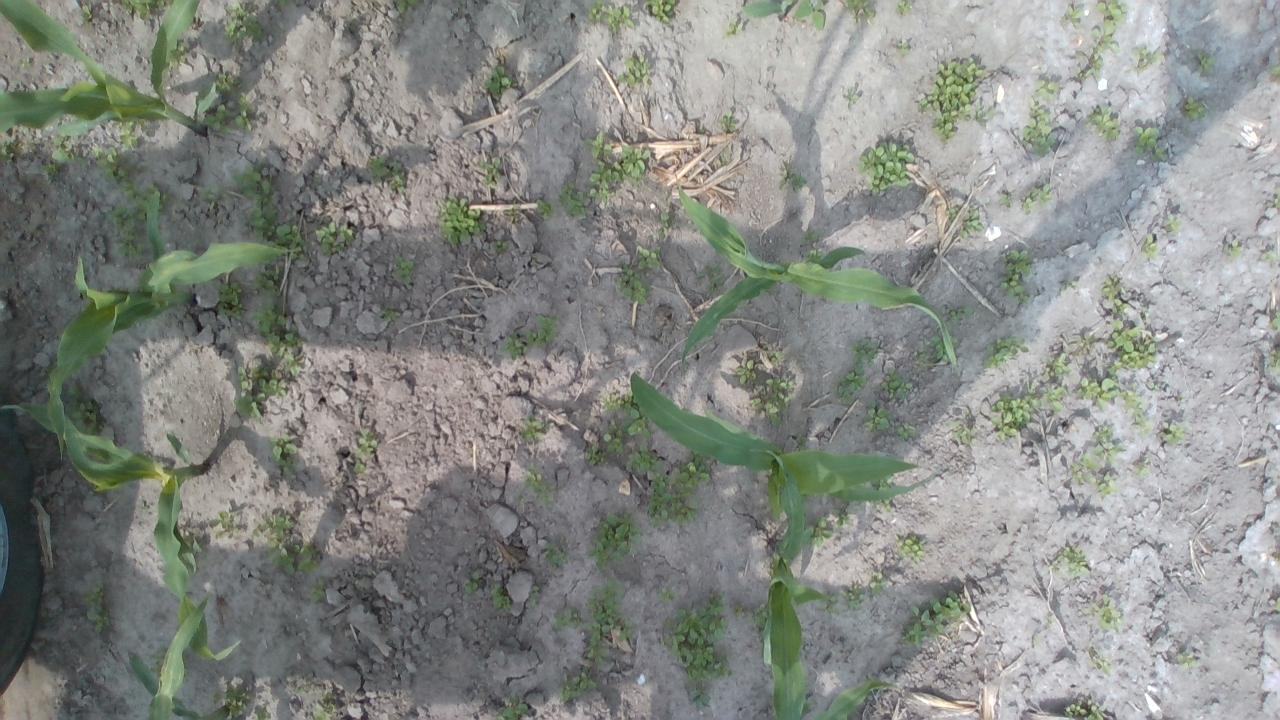Maize: (44, 188, 300, 460), (0, 403, 242, 662), (624, 367, 920, 568), (673, 184, 958, 372), (0, 0, 220, 140), (762, 524, 834, 720), (127, 594, 233, 720), (808, 675, 904, 720), (742, 0, 796, 21)
Weeds: (658, 588, 733, 709), (918, 57, 991, 143), (584, 574, 640, 666), (251, 268, 304, 362), (234, 158, 282, 248), (901, 590, 972, 646), (236, 360, 302, 419), (1105, 312, 1162, 375), (990, 382, 1044, 441), (648, 469, 701, 528), (588, 510, 640, 570), (251, 514, 298, 576), (858, 142, 914, 192), (436, 196, 486, 248), (111, 202, 152, 264), (624, 418, 666, 474), (750, 376, 795, 428), (120, 180, 170, 222), (1120, 382, 1158, 434), (998, 248, 1032, 305), (222, 1, 266, 45), (1021, 103, 1056, 158), (80, 580, 112, 634), (276, 207, 306, 264), (614, 260, 651, 306), (586, 0, 636, 34), (520, 464, 556, 510), (90, 143, 128, 185), (1076, 376, 1120, 412), (313, 222, 357, 257), (366, 156, 406, 194), (984, 336, 1029, 369), (214, 280, 248, 322), (270, 434, 302, 478), (836, 367, 870, 407), (1088, 103, 1122, 142), (556, 176, 586, 220), (588, 162, 620, 203), (560, 671, 602, 702), (1133, 124, 1167, 162), (620, 145, 650, 188), (1092, 426, 1122, 467), (618, 50, 652, 86), (1087, 594, 1122, 628), (527, 312, 561, 346), (1050, 544, 1088, 574), (64, 402, 98, 435), (679, 454, 712, 488), (695, 262, 730, 294), (1102, 276, 1130, 314), (879, 368, 912, 400), (483, 65, 515, 97), (115, 118, 149, 148), (204, 103, 234, 136), (850, 335, 879, 369), (120, 0, 166, 21), (494, 692, 528, 720), (939, 304, 976, 329), (223, 686, 250, 720), (864, 398, 890, 433), (1096, 0, 1126, 30), (778, 160, 808, 190), (583, 130, 613, 160), (804, 516, 832, 548), (894, 534, 926, 562), (796, 0, 826, 29), (1071, 454, 1097, 487), (1132, 46, 1162, 74), (634, 244, 664, 272), (542, 541, 574, 567), (1023, 184, 1056, 209), (603, 419, 625, 456), (390, 254, 413, 289), (354, 427, 379, 459), (1044, 352, 1072, 380), (960, 208, 986, 238), (478, 156, 504, 186), (310, 690, 336, 720), (501, 331, 529, 358), (178, 526, 206, 553), (234, 93, 253, 132), (844, 0, 876, 23), (215, 509, 242, 536), (945, 418, 971, 445), (646, 0, 676, 23), (1183, 95, 1209, 121), (1097, 472, 1121, 500), (554, 606, 584, 628), (298, 546, 320, 576), (375, 304, 402, 328), (1092, 32, 1121, 54), (928, 334, 949, 364), (599, 390, 625, 414), (491, 583, 512, 612), (520, 416, 544, 441), (214, 72, 238, 97), (842, 583, 864, 610), (734, 358, 756, 384), (1034, 78, 1061, 98), (816, 594, 840, 616), (655, 209, 672, 240), (623, 390, 641, 419), (1197, 49, 1215, 77), (534, 197, 554, 222), (310, 578, 328, 605), (1062, 5, 1084, 27), (1165, 423, 1185, 447), (830, 504, 850, 528), (168, 42, 185, 70), (584, 444, 606, 465), (1047, 386, 1064, 413), (134, 268, 153, 291), (1177, 650, 1201, 668), (1142, 232, 1158, 259), (52, 147, 76, 165), (896, 420, 916, 441), (800, 246, 826, 262), (1088, 52, 1105, 76), (198, 185, 218, 205), (61, 382, 80, 403), (464, 570, 482, 592), (1063, 702, 1086, 719), (870, 472, 894, 488), (40, 162, 58, 183), (76, 3, 92, 26), (0, 136, 15, 160), (752, 604, 768, 626), (395, 0, 418, 15), (1166, 213, 1184, 232), (911, 350, 930, 368), (1091, 654, 1109, 673), (149, 648, 163, 672), (870, 572, 886, 593), (719, 113, 737, 131), (799, 230, 821, 244), (1134, 463, 1152, 480), (895, 38, 911, 56), (1267, 347, 1280, 369), (528, 584, 539, 609), (726, 22, 744, 37), (896, 0, 912, 16), (1088, 704, 1104, 720), (845, 88, 859, 106), (1228, 239, 1242, 256), (1000, 192, 1014, 209), (878, 496, 892, 512), (208, 688, 222, 704), (1270, 310, 1280, 332), (254, 708, 272, 720), (494, 240, 510, 253), (1263, 252, 1280, 264), (133, 318, 149, 330), (769, 350, 784, 362), (182, 656, 189, 681), (950, 334, 960, 350), (18, 56, 32, 67), (1270, 63, 1280, 78), (1076, 69, 1088, 81), (948, 206, 958, 220), (1063, 280, 1078, 288), (52, 135, 64, 145), (352, 463, 365, 472), (734, 607, 744, 618), (192, 9, 202, 20), (1274, 192, 1280, 210), (138, 495, 144, 512), (1084, 335, 1095, 344), (272, 0, 288, 6), (1275, 596, 1280, 610)
